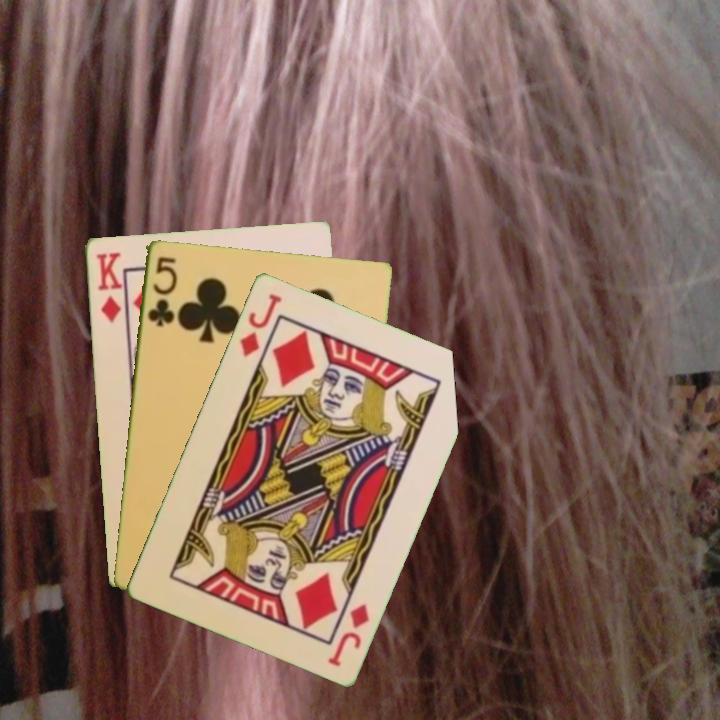5c: (144, 252, 180, 329)
Jd: (236, 289, 285, 359), (324, 599, 372, 669)
Kd: (92, 249, 125, 326)
